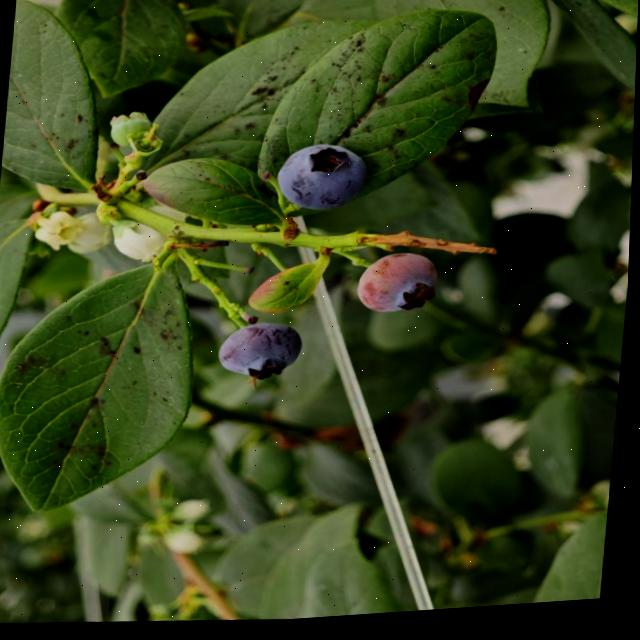RipeBlueBerry: (276, 139, 374, 221), (217, 317, 310, 389)
Semi-RipeBlueBerry: (354, 252, 445, 324)
